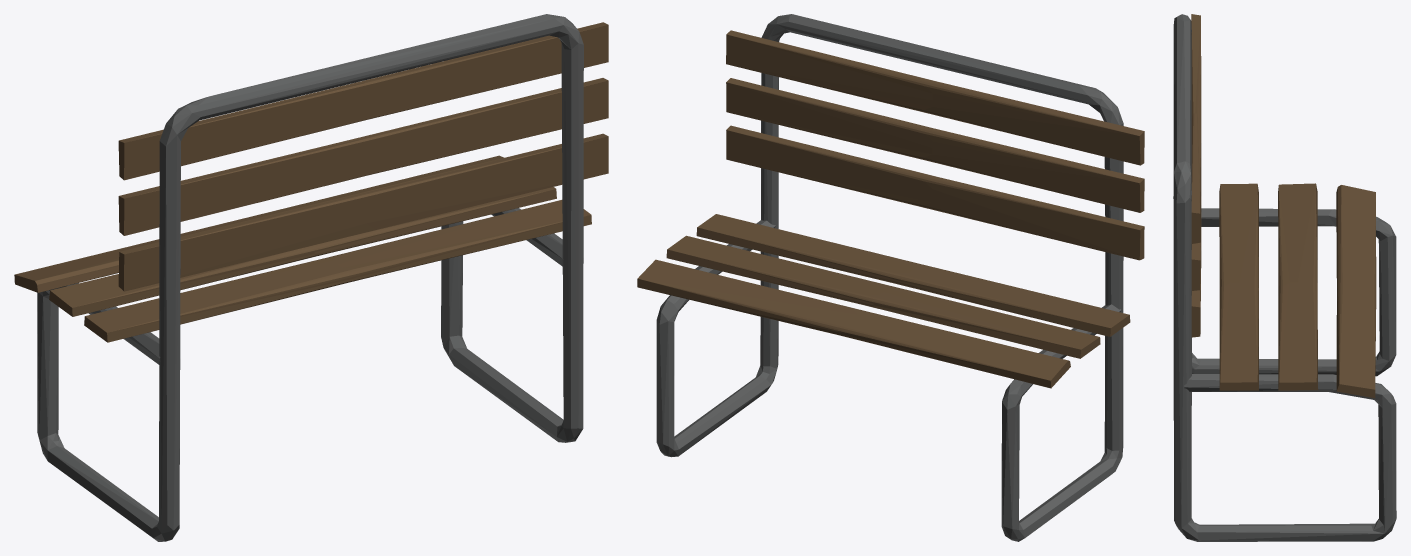
The model's file is bench.obj.
The picture shows the model from 3 angles, left to right: view 1: azimuth 30°, elevation 25°; view 2: azimuth 150°, elevation 25°; view 3: azimuth 270°, elevation 25°; orthographic projection. The views are drawn at different scales.
Visible parts, largest first — view 1: Bench_Circle_Wood, Bench_Circle_Metal; view 2: Bench_Circle_Wood, Bench_Circle_Metal; view 3: Bench_Circle_Wood, Bench_Circle_Metal.
Part boxes in pixels (box(x1,y1,x2,y2)): Bench_Circle_Wood: box(14, 22, 608, 342); Bench_Circle_Metal: box(37, 14, 583, 541); Bench_Circle_Wood: box(637, 30, 1144, 388); Bench_Circle_Metal: box(656, 14, 1123, 541); Bench_Circle_Wood: box(1191, 14, 1376, 398); Bench_Circle_Metal: box(1173, 14, 1396, 541).
Bounding box in the file's own units: 12 × 10.45 × 5.69.
